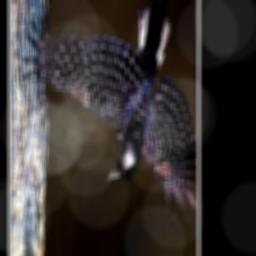Woodpecker: (28, 3, 197, 221)
